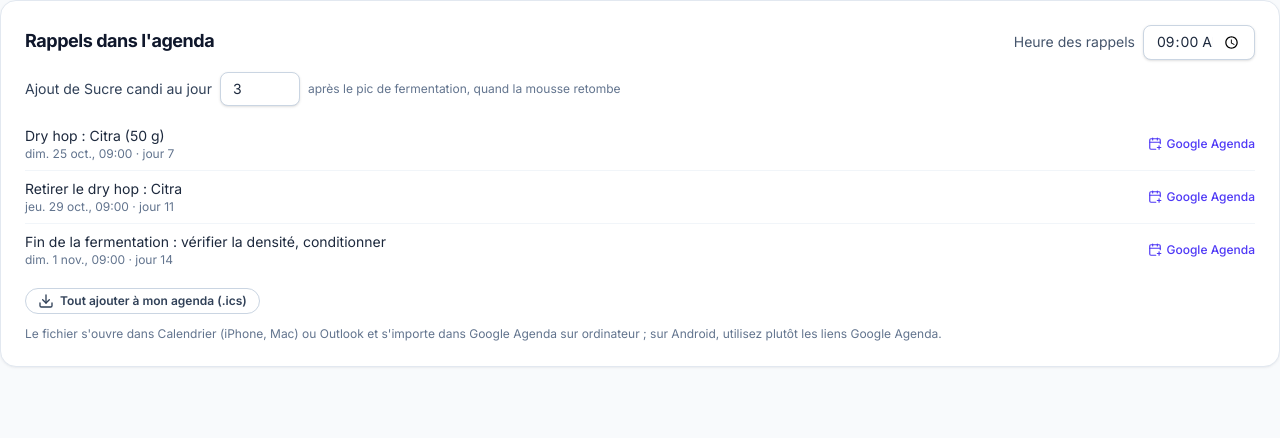
FermentationReminders › jour d’ajout en fermentation réglable
This screenshot has width=1280, height=438.
Step 1. Replace the text in the number field named "Jour d'ajout de Sucre candi" with "6" → (260, 89), box [220,72,300,106]
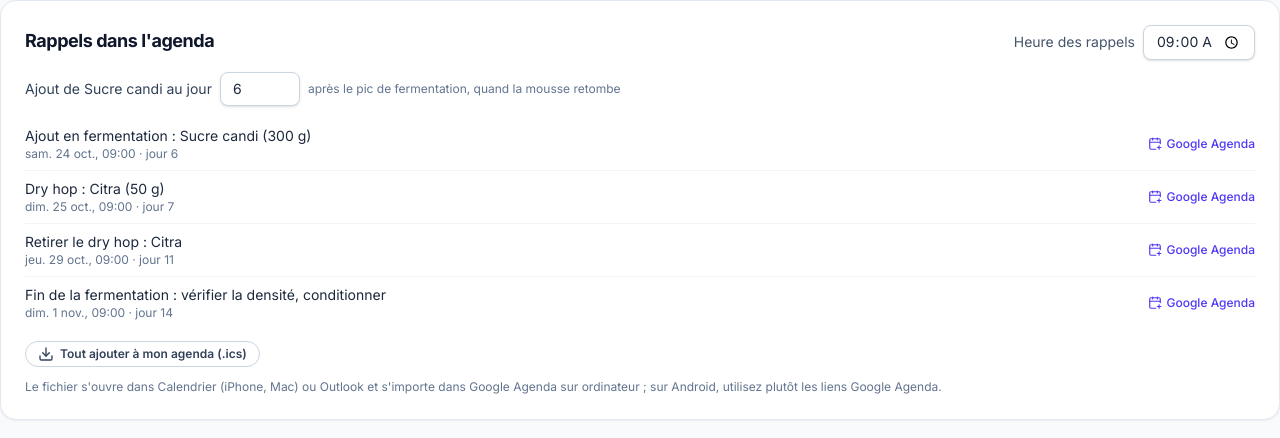
Expected: the text "Ajout en fermentation : Sucre candi (300 g)" is shown, [25,126,311,146]
